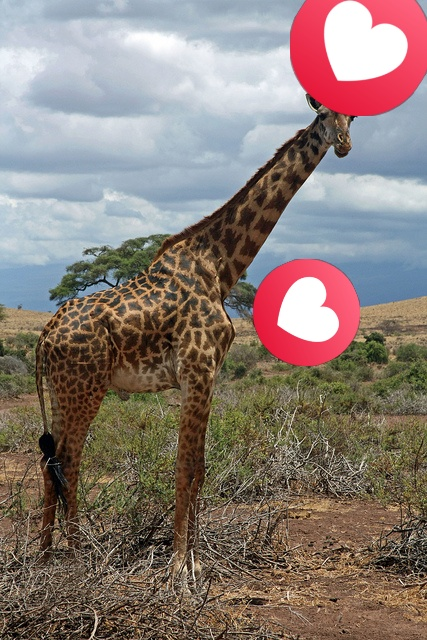love: (290, 0, 427, 116), (253, 259, 360, 366)
